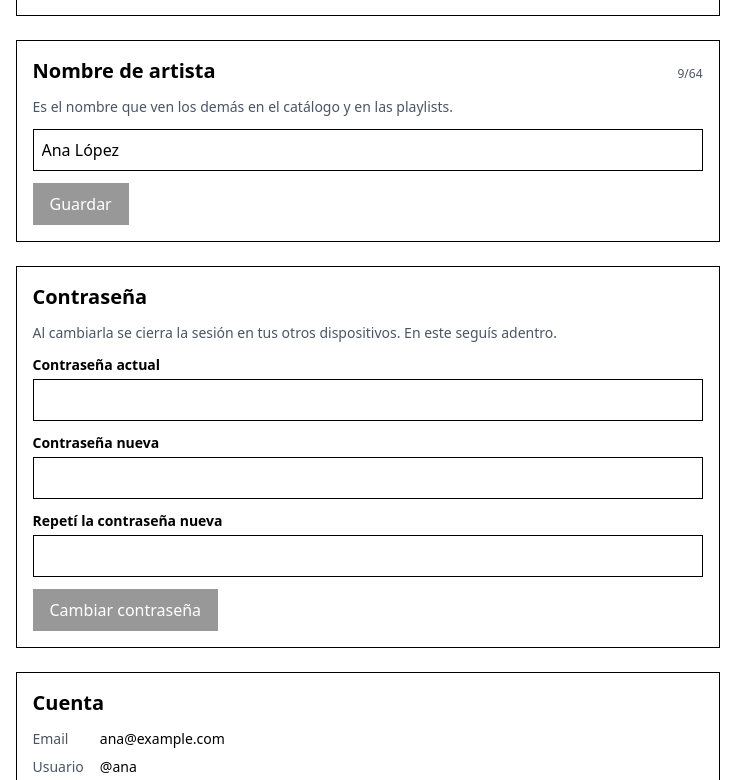
it: contraseña › con la actual mal muestra el error del server
(page scrolled)
Type "mal" into the password field labelled "Contraseña actual" at {"x": 368, "y": 400}, box [32,379,702,421]
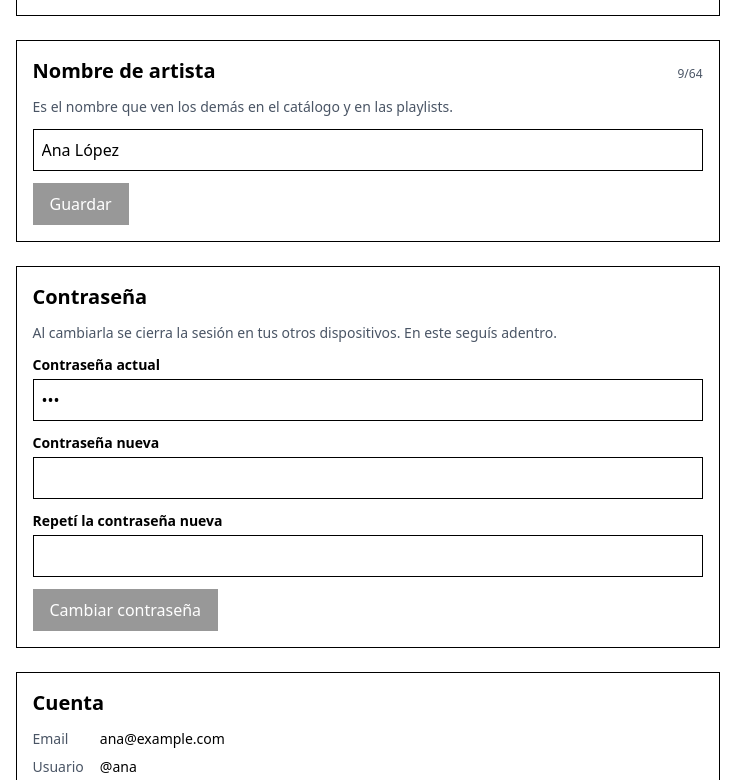
Type "nueva-clave-1" into the password field labelled "Contraseña nueva" at {"x": 368, "y": 478}, box [32,457,702,499]
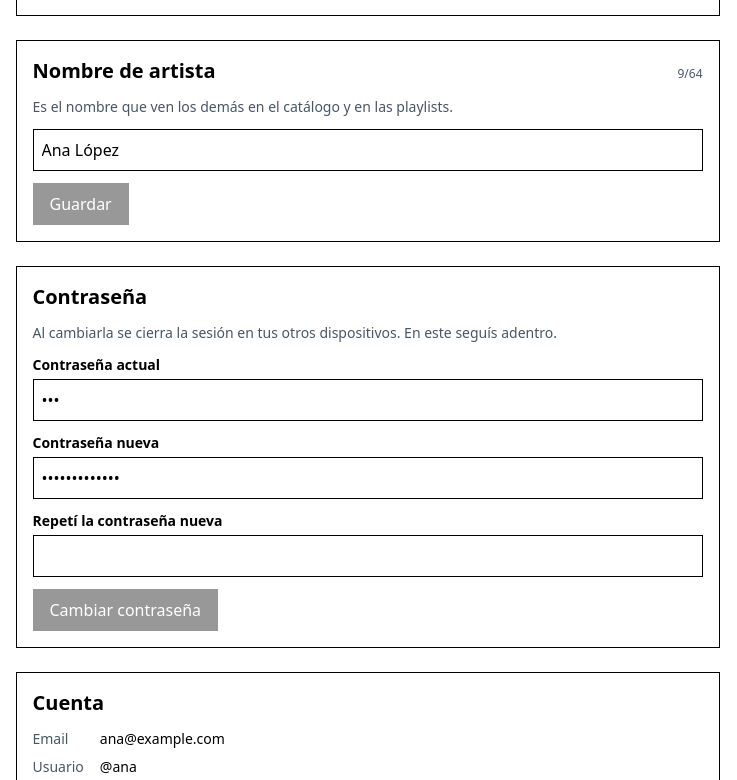
Type "nueva-clave-1" into the password field labelled "Repetí la contraseña nueva" at {"x": 368, "y": 556}, box [32,535,702,577]
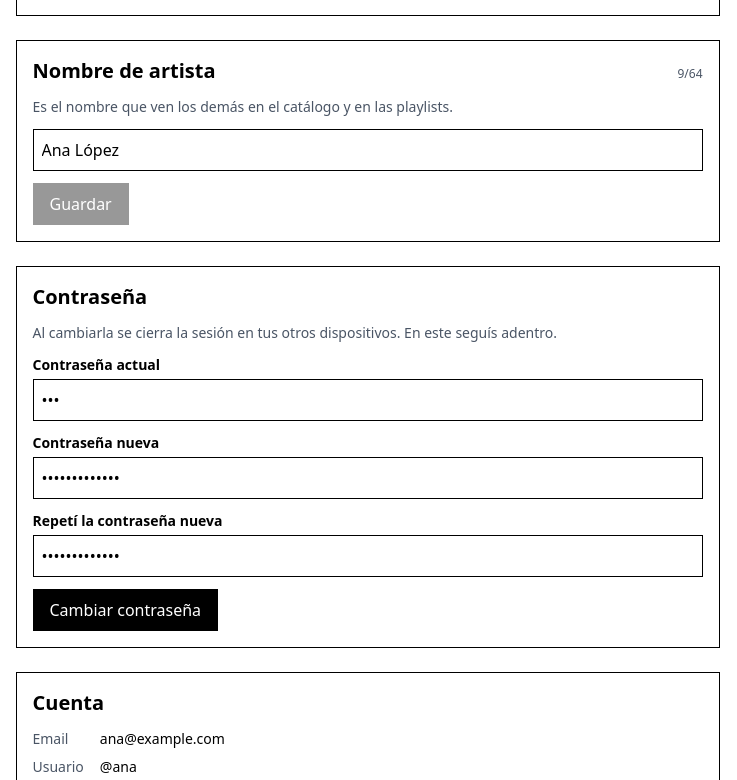
Click the button "Cambiar contraseña" at {"x": 125, "y": 610}, box [32,589,218,631]
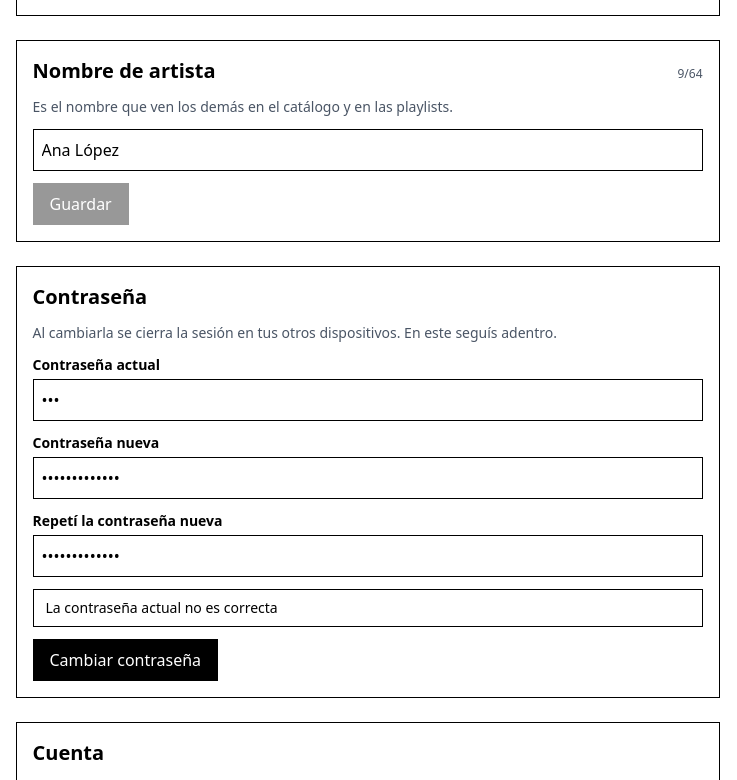
Result: the message reads "La contraseña actual no es correcta" at [46,598,278,617]
